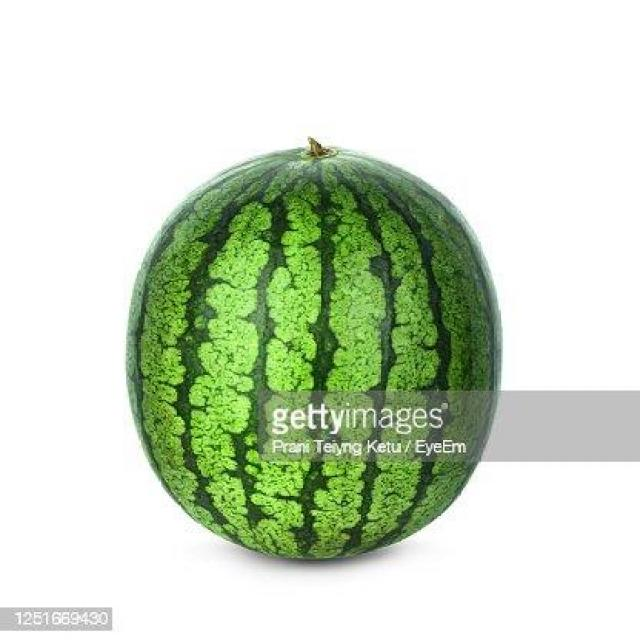watermelon: (127, 136, 514, 566)
